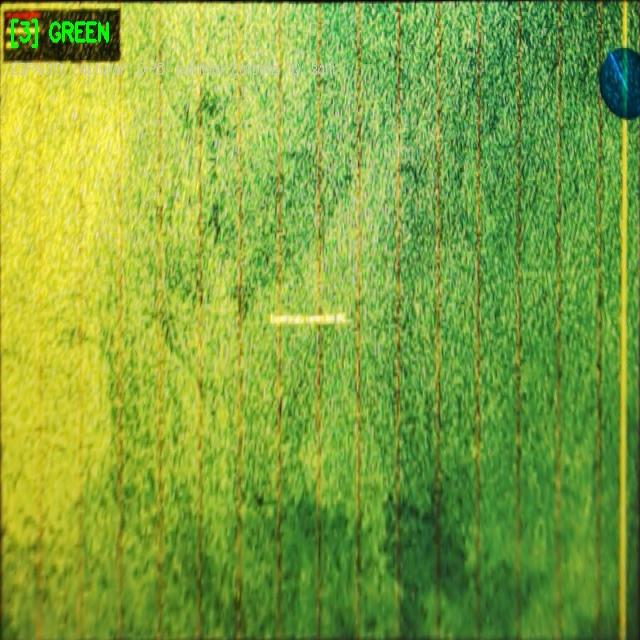green: (596, 39, 640, 123)
